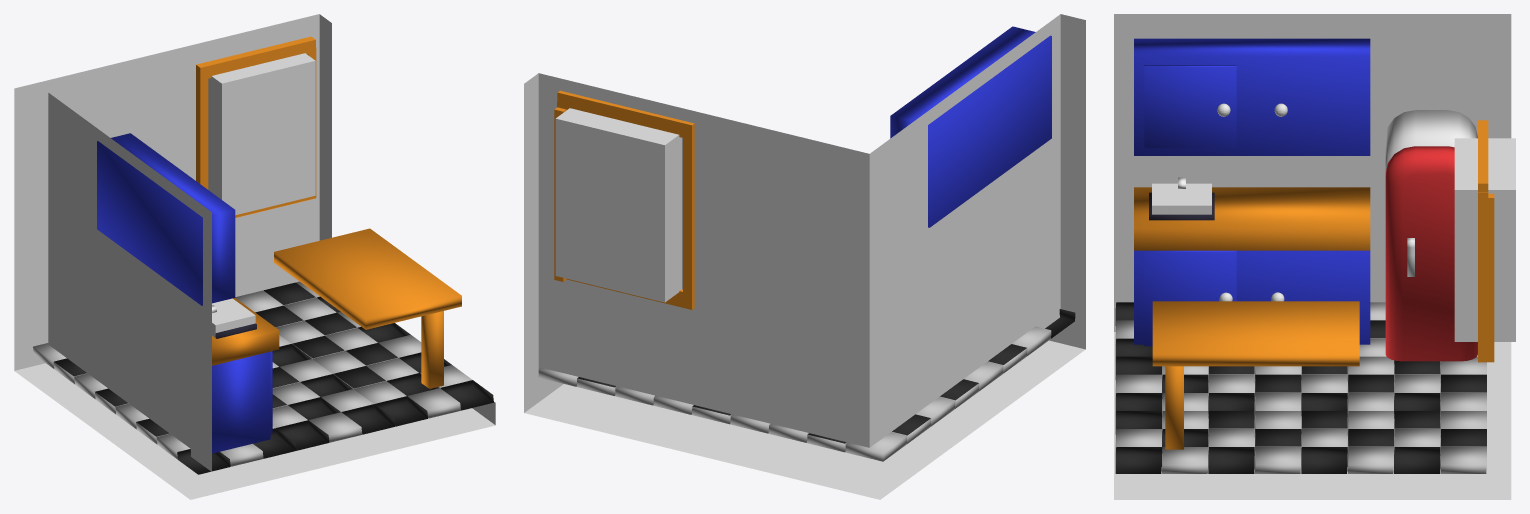
File: kitchen.glb
3 views of the same model, side by side, from view 1: azimuth 30°, elevation 25°; view 2: azimuth 150°, elevation 25°; view 3: azimuth 270°, elevation 25° (orthographic). The views are drawn at different scales.
Parts seen in each view (by area): view 1: Plane, Plane.001, Cube.002, Plane.008, Plane.012, Plane.004, Cube.004, Plane.005, Plane.011, Cube.001; view 2: Plane, Cube.002, Plane.008, Plane.001, Cube.004; view 3: Plane, Plane.001, Plane.008, Plane.007, Plane.012, Plane.005, Cube.002, Plane.004, Plane.009, Plane.006, Cube.004, Plane.002 (+3 smaller).
Part boxes in pixels (left/top/right/bottom): Plane: left=14, top=14, right=495, bottom=499; Plane.001: left=33, top=281, right=493, bottom=474; Cube.002: left=208, top=53, right=315, bottom=215; Plane.008: left=97, top=133, right=235, bottom=305; Plane.012: left=274, top=228, right=461, bottom=329; Plane.004: left=212, top=351, right=270, bottom=453; Cube.004: left=196, top=36, right=316, bottom=217; Plane.005: left=212, top=298, right=279, bottom=365; Plane.011: left=421, top=311, right=443, bottom=388; Cube.001: left=212, top=298, right=255, bottom=337; Plane: left=524, top=14, right=1085, bottom=499; Cube.002: left=555, top=108, right=681, bottom=302; Plane.008: left=890, top=26, right=1051, bottom=227; Plane.001: left=538, top=309, right=1075, bottom=461; Cube.004: left=554, top=90, right=694, bottom=309; Plane: left=1114, top=14, right=1511, bottom=499; Plane.001: left=1115, top=302, right=1486, bottom=473; Plane.008: left=1134, top=38, right=1370, bottom=155; Plane.007: left=1385, top=146, right=1477, bottom=361; Plane.012: left=1152, top=301, right=1359, bottom=366; Plane.005: left=1134, top=187, right=1370, bottom=250; Cube.002: left=1454, top=138, right=1515, bottom=341; Plane.004: left=1134, top=250, right=1370, bottom=344; Plane.009: left=1144, top=65, right=1236, bottom=148; Plane.006: left=1144, top=250, right=1236, bottom=346; Cube.004: left=1478, top=120, right=1494, bottom=362; Plane.002: left=1385, top=110, right=1477, bottom=171.
Size of what is drawn, in the model's own units: 8.61 by 7.61 by 8.71.
